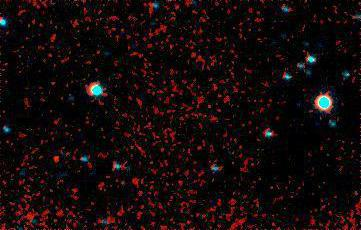star: (43, 143, 73, 173)
